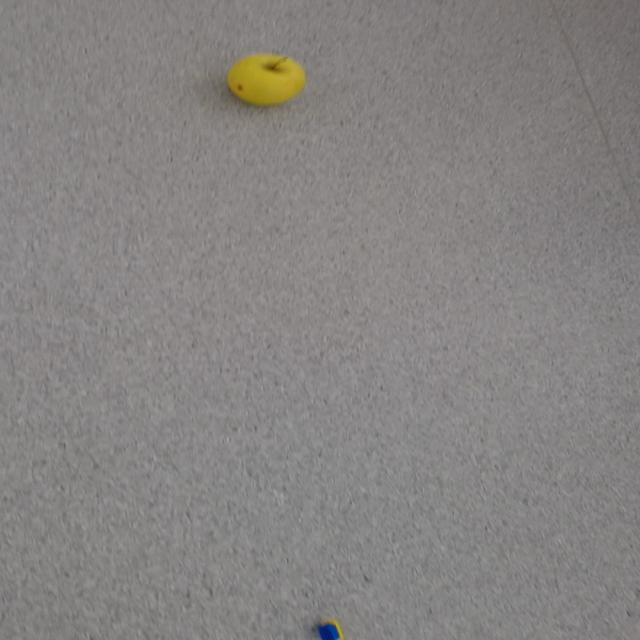apple: (226, 52, 306, 106)
toothbrush: (316, 618, 344, 640)
